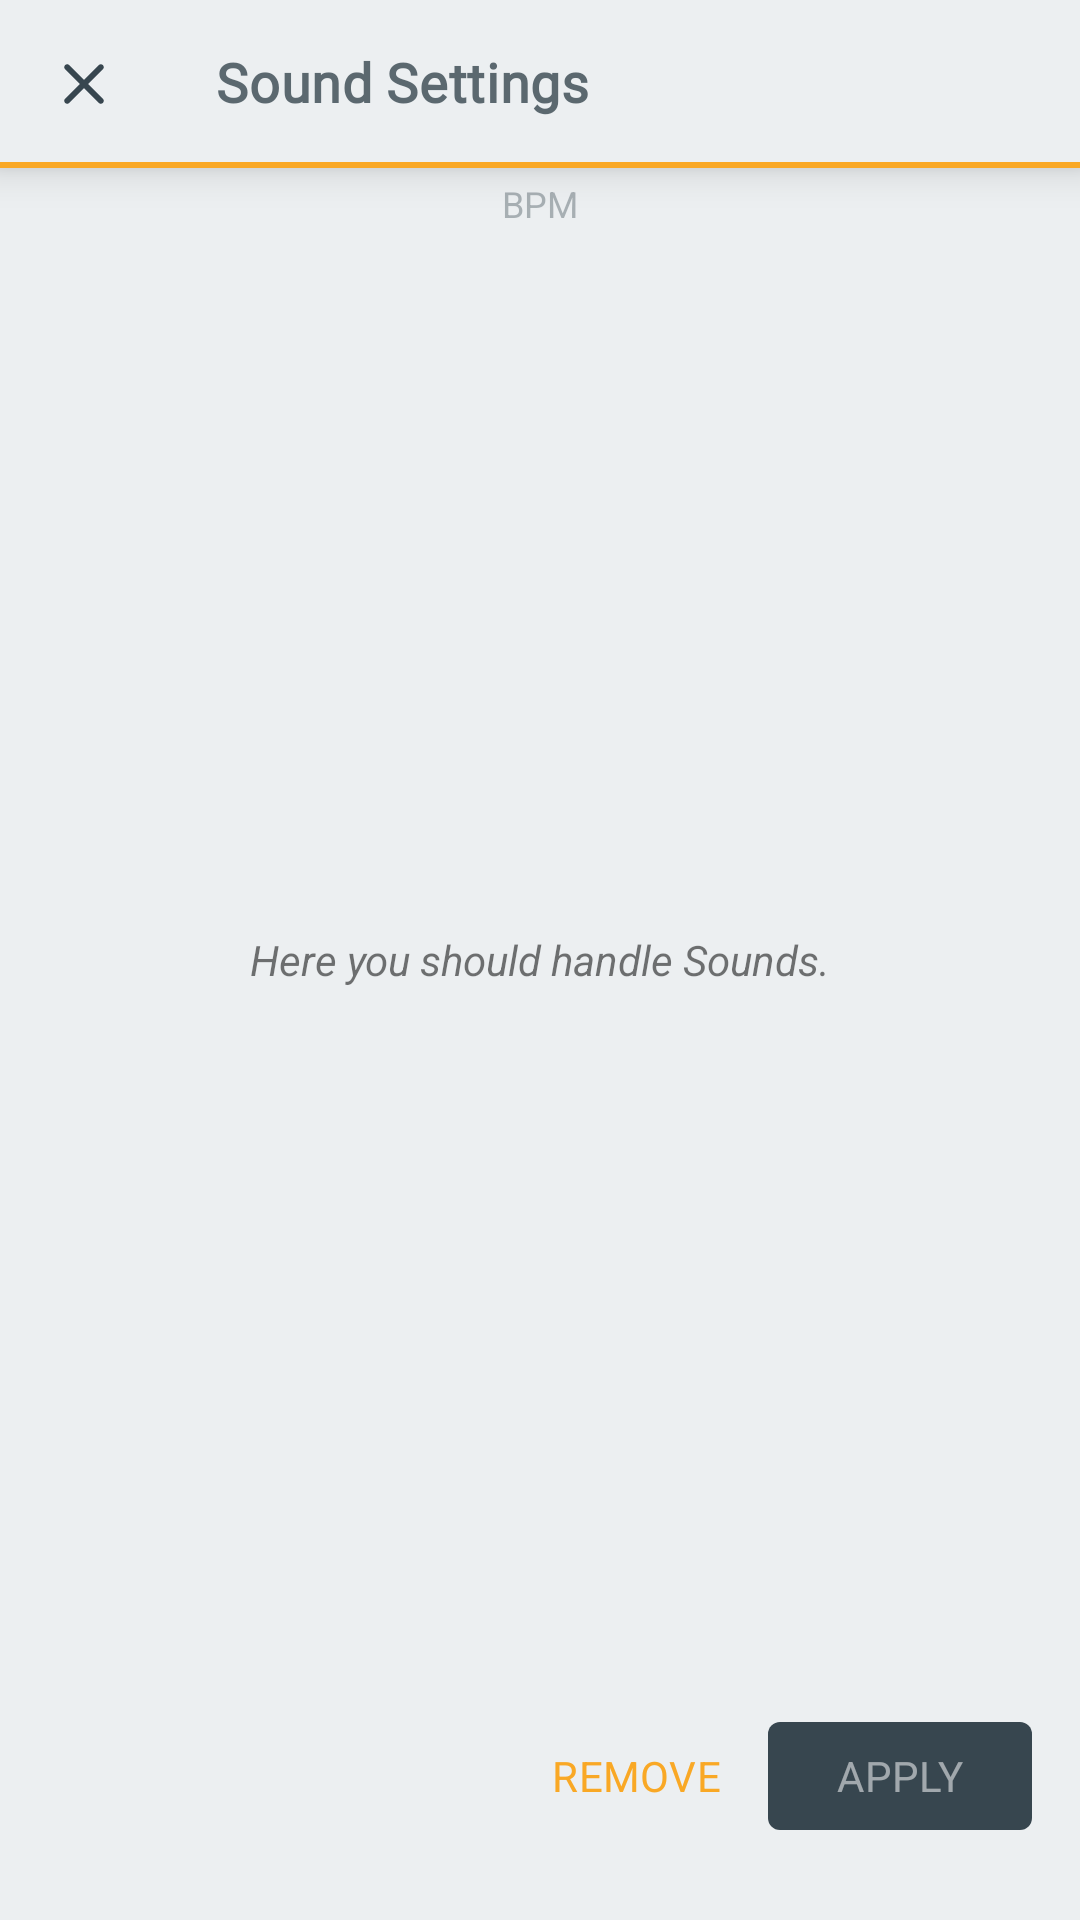

Screen size 1080px x 1920px. Icon name, then its box in pixels as box(x1, y1, x2, y2):
close: box(64, 64, 104, 104)
